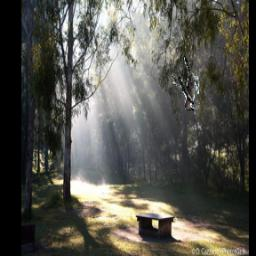Woodpecker: (171, 55, 200, 112)
